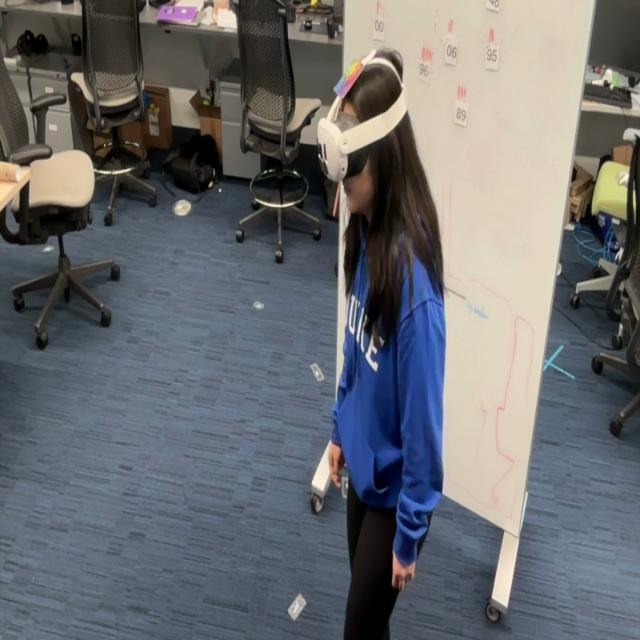Headset: (316, 56, 408, 182)
Marker: (321, 62, 366, 108)
